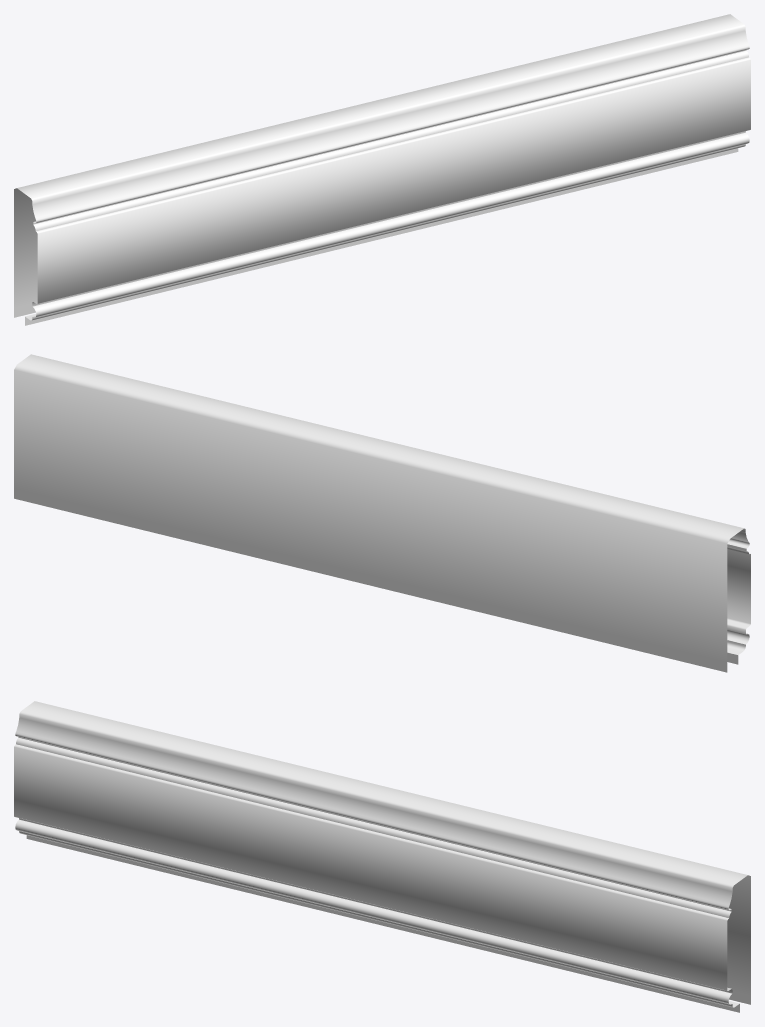
The model's file is original-38.obj.
The picture shows the model from 3 angles, top to bottom: view 1: azimuth 30°, elevation 25°; view 2: azimuth 150°, elevation 25°; view 3: azimuth 330°, elevation 25°; orthographic projection.
Visible parts, largest first — view 1: DF_12_TC1/DF_12_TC/mesh26/mesh26-geometry#mesh26-geometry; view 2: DF_12_TC1/DF_12_TC/mesh26/mesh26-geometry#mesh26-geometry; view 3: DF_12_TC1/DF_12_TC/mesh26/mesh26-geometry#mesh26-geometry.
Boxes of the visible parts, x1=… form: DF_12_TC1/DF_12_TC/mesh26/mesh26-geometry#mesh26-geometry: x1=14, y1=14, x2=750, y2=325; DF_12_TC1/DF_12_TC/mesh26/mesh26-geometry#mesh26-geometry: x1=14, y1=354, x2=750, y2=672; DF_12_TC1/DF_12_TC/mesh26/mesh26-geometry#mesh26-geometry: x1=14, y1=701, x2=750, y2=1012.
Size of the model in its own units: 0.589 by 0.1041 by 0.0338.
